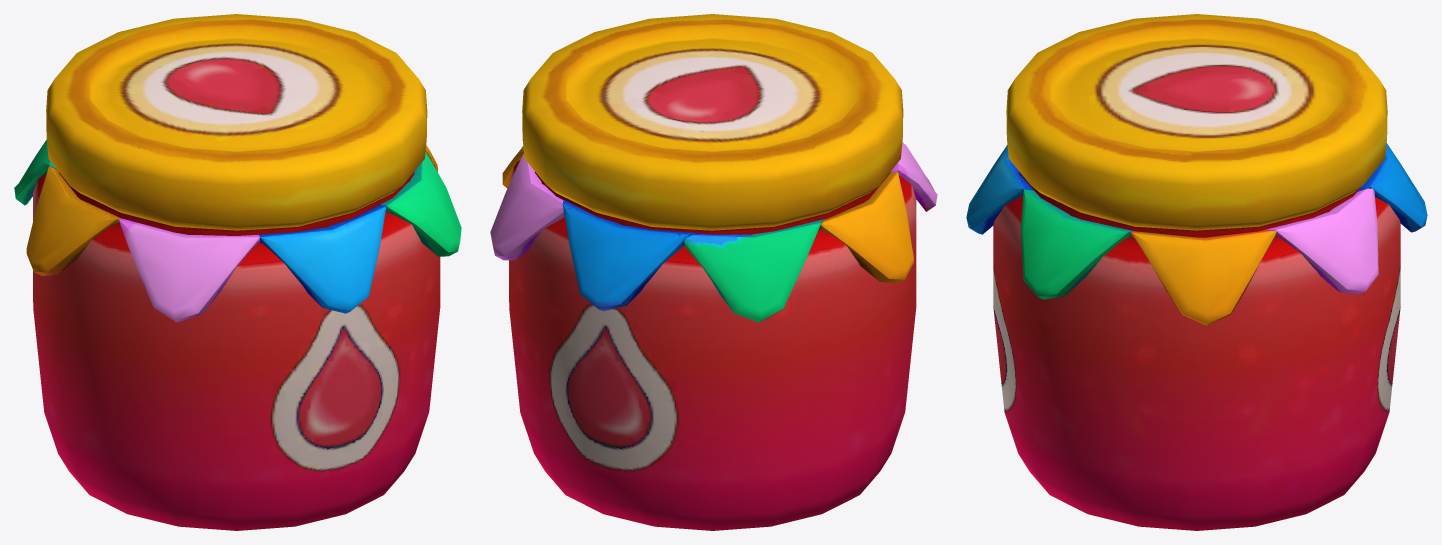
File: JamJar_Red.glb
3 renders of one model, left to right at view 1: azimuth 30°, elevation 25°; view 2: azimuth 150°, elevation 25°; view 3: azimuth 270°, elevation 25°, orthographic.
Size of the model in its own units: 1.1 by 0.991 by 1.1.
Materials: 1 (1 with a texture image).
